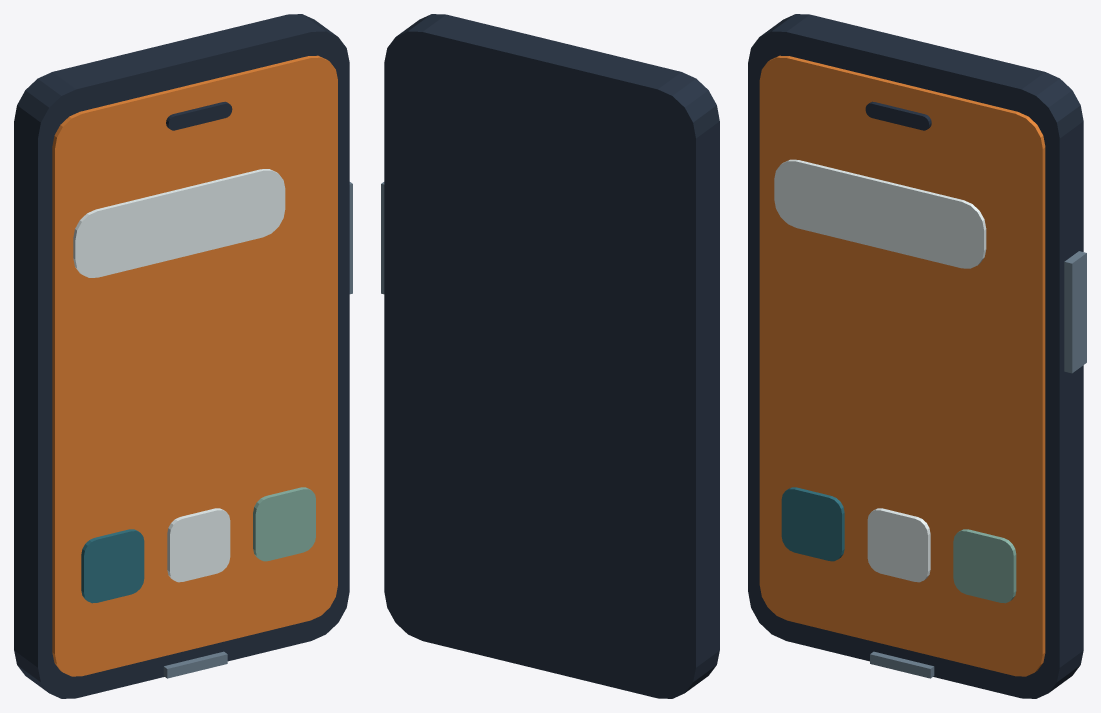
File: phone.glb
The picture shows the model from 3 angles, left to right: view 1: azimuth 30°, elevation 25°; view 2: azimuth 150°, elevation 25°; view 3: azimuth 330°, elevation 25°; orthographic projection.
Parts seen in each view (by area): view 1: screen, case, widget, app 1, app 0, app 2, earpiece, port; view 2: case; view 3: screen, case, widget, app 0, app 1, app 2, side switch, earpiece, port.
Boxes of the visible parts, <box> form: screen: <box>52,55,337,676</box>; case: <box>14,14,349,698</box>; widget: <box>73,169,285,277</box>; app 1: <box>167,508,230,582</box>; app 0: <box>81,529,144,603</box>; app 2: <box>253,487,315,561</box>; earpiece: <box>166,101,232,130</box>; port: <box>163,651,227,678</box>; case: <box>384,14,719,698</box>; screen: <box>759,55,1045,676</box>; case: <box>748,14,1083,698</box>; widget: <box>774,159,986,268</box>; app 0: <box>781,487,844,561</box>; app 1: <box>867,508,930,582</box>; app 2: <box>953,529,1016,603</box>; side switch: <box>1064,251,1086,373</box>; earpiece: <box>865,101,931,130</box>; port: <box>870,651,934,678</box>.
Size of the model in its own units: 1 by 1.83 by 0.166.
